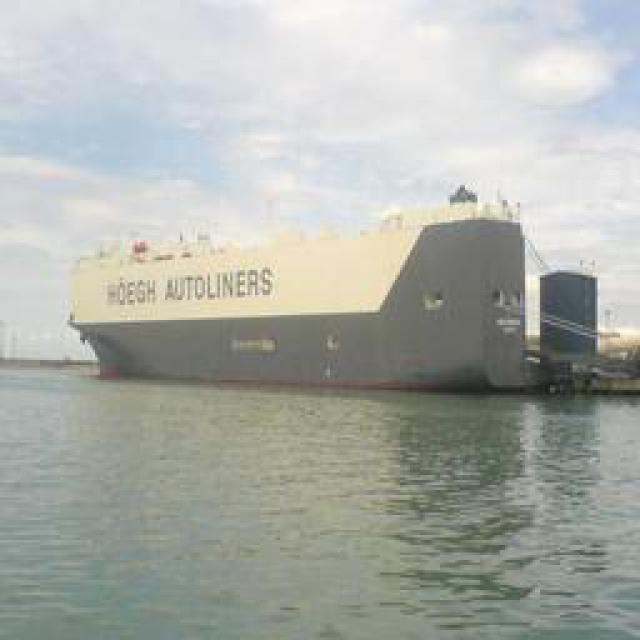Ship: (74, 209, 564, 392)
